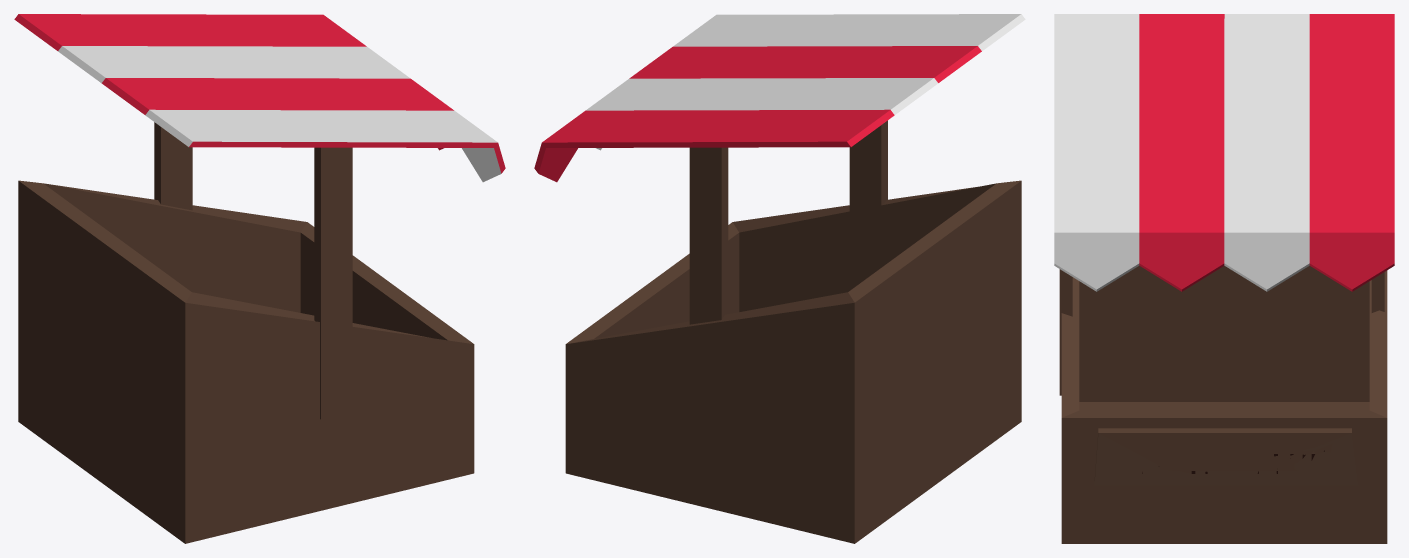
The model's file is fruitStand.fbx.
The picture shows the model from 3 angles, left to right: view 1: azimuth 30°, elevation 25°; view 2: azimuth 150°, elevation 25°; view 3: azimuth 270°, elevation 25°; orthographic projection. The views are drawn at different scales.
Visible parts, largest first — view 1: Cube, Plane.001, Cube.001; view 2: Cube, Plane.001, Cube.001; view 3: Plane.001, Cube, Cube.002, Cube.001.
Boxes of the visible parts, left/top/right/bottom form: Cube: left=18, top=180, right=474, bottom=543; Plane.001: left=14, top=14, right=505, bottom=182; Cube.001: left=154, top=122, right=352, bottom=419; Cube: left=565, top=180, right=1021, bottom=543; Plane.001: left=534, top=14, right=1025, bottom=182; Cube.001: left=689, top=120, right=887, bottom=324; Plane.001: left=1054, top=14, right=1394, bottom=291; Cube: left=1061, top=265, right=1387, bottom=543; Cube.002: left=1094, top=428, right=1358, bottom=485; Cube.001: left=1059, top=269, right=1384, bottom=395.
Bounding box in the file's own units: 255 × 307 × 240.
